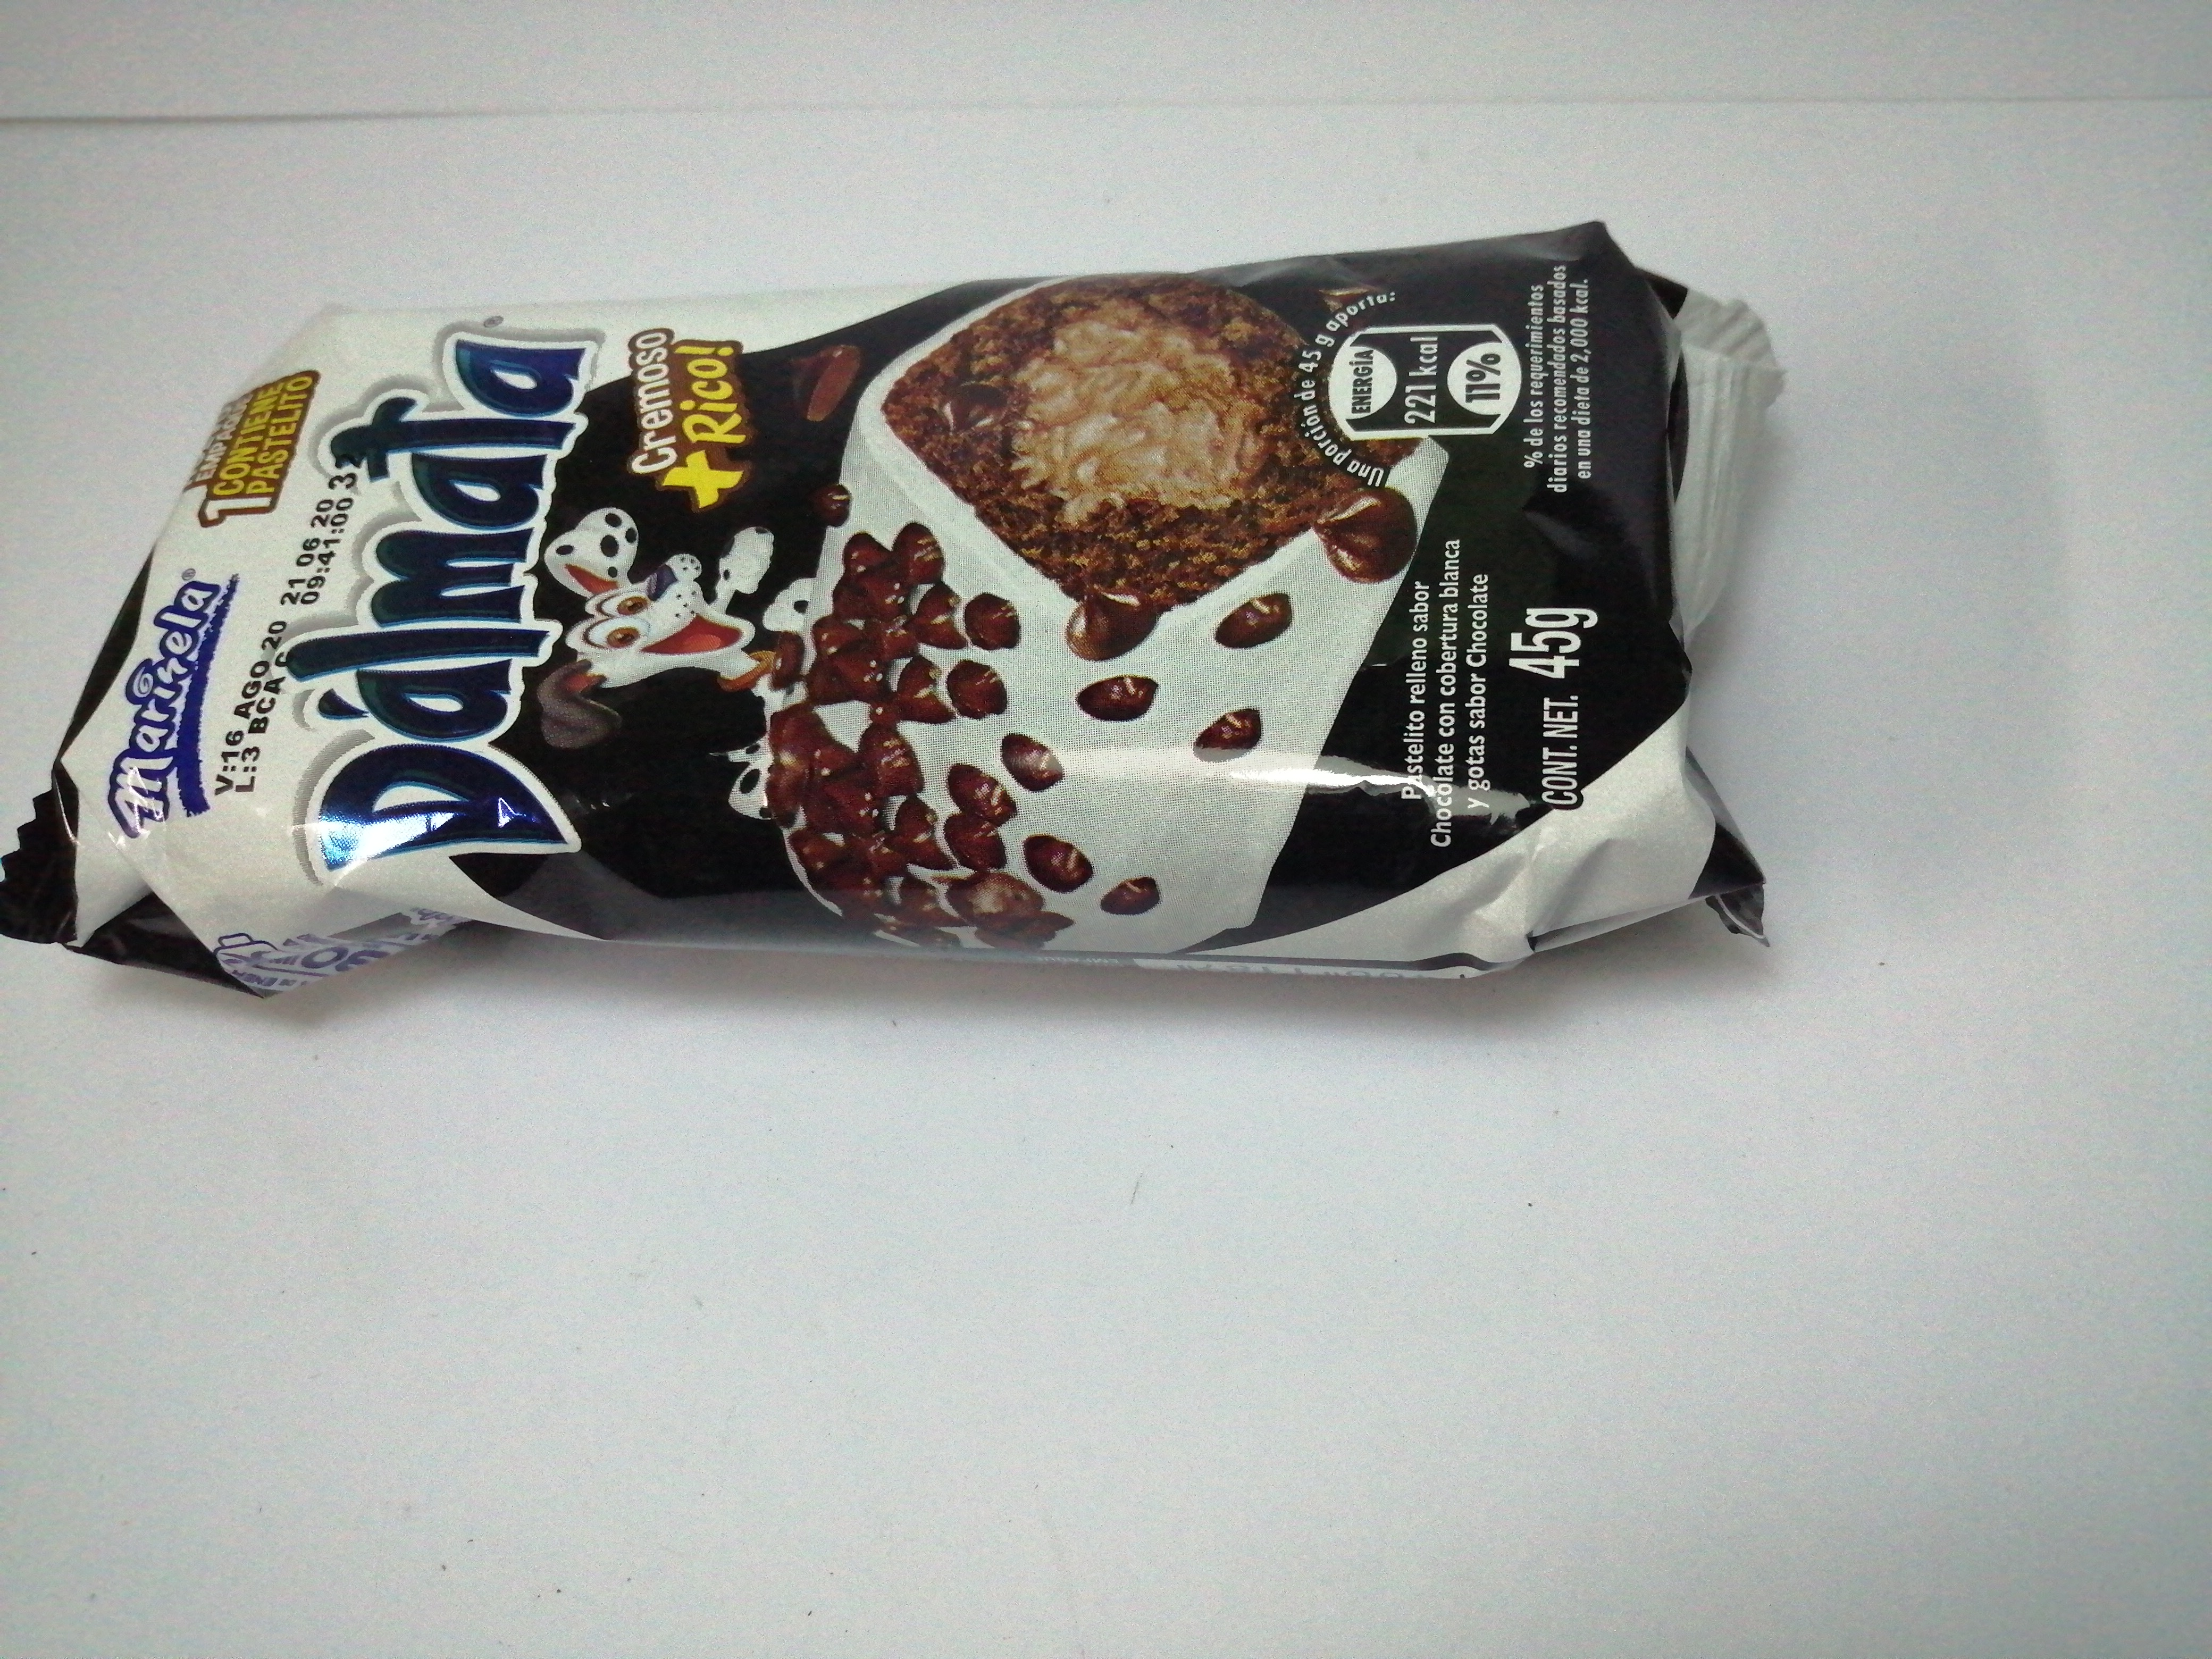dalmata: (9, 246, 1836, 1032)
